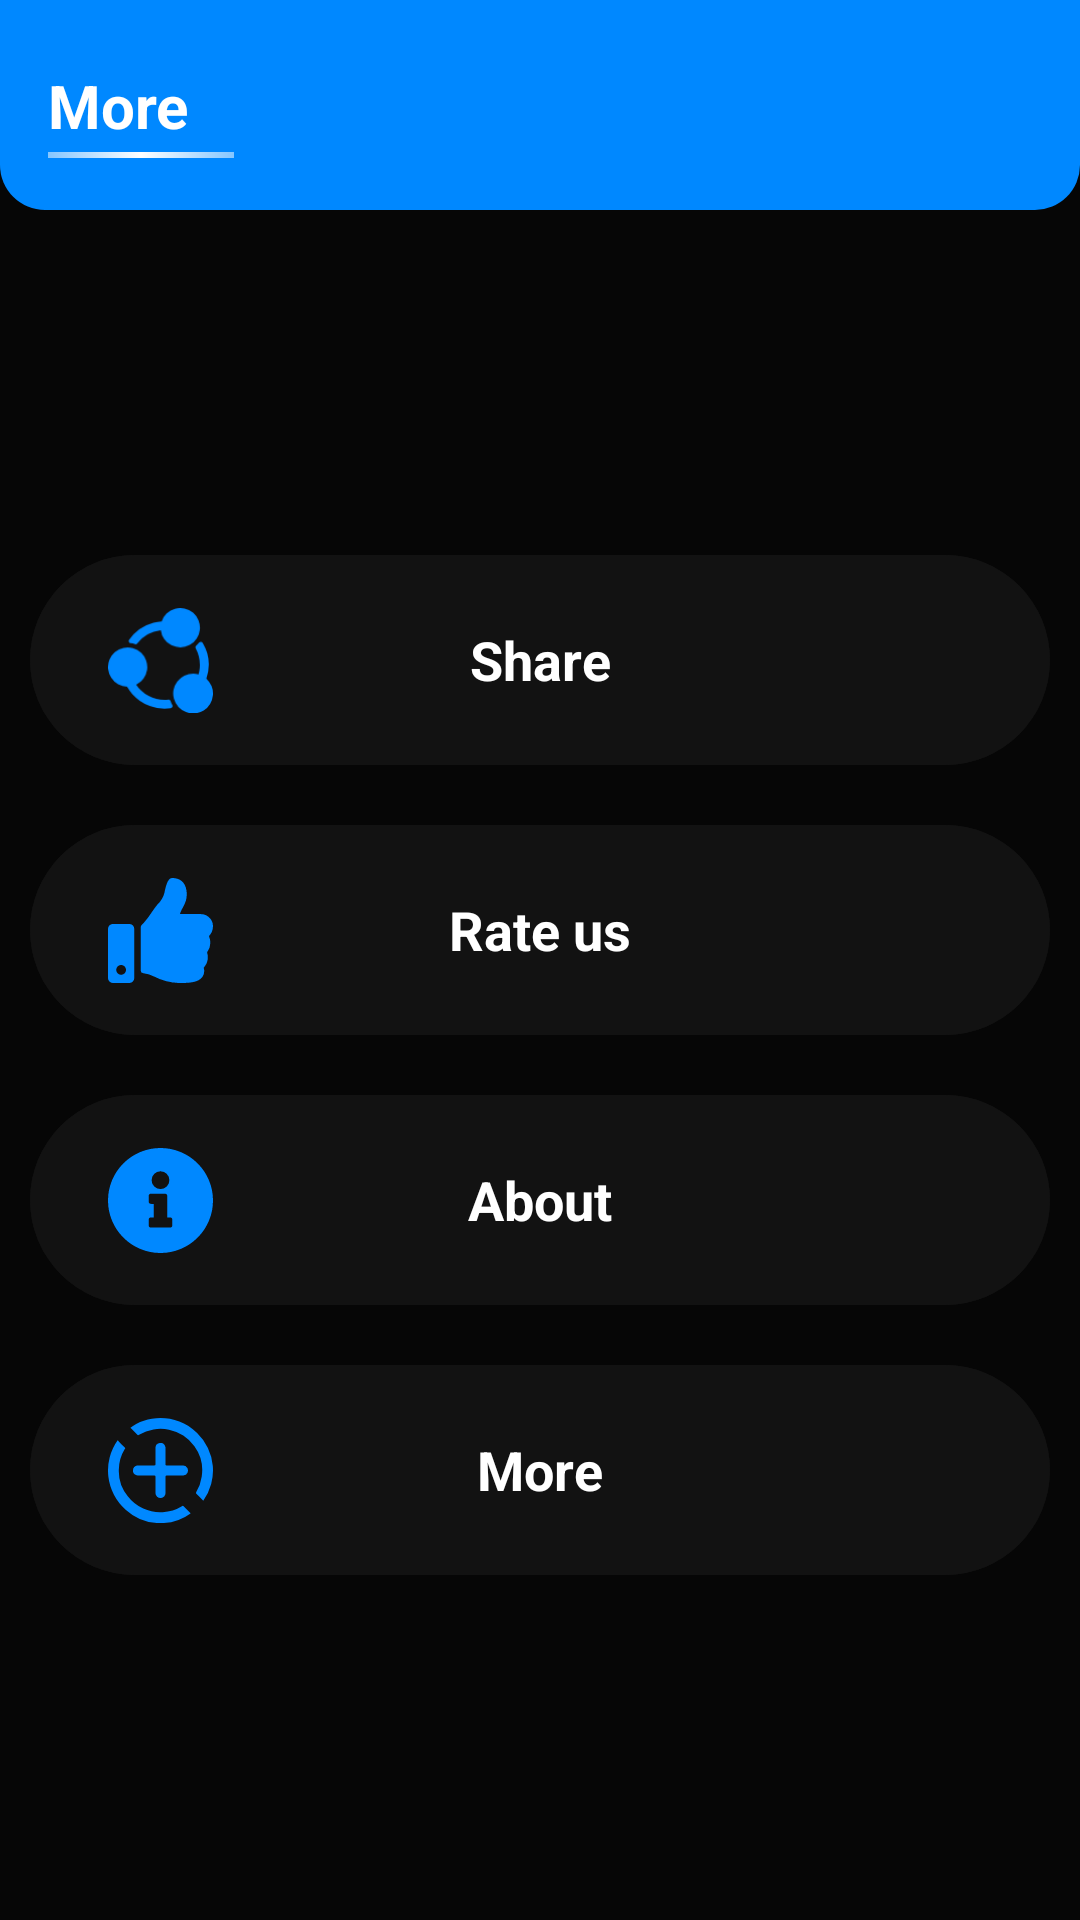

Icons on this 1080px x 1920px Android screen, each with the point to tap as (x=x, y=y):
info circle: (x=160, y=1200)
more: (x=160, y=1470)
share: (x=160, y=660)
thumbs up: (x=160, y=930)
